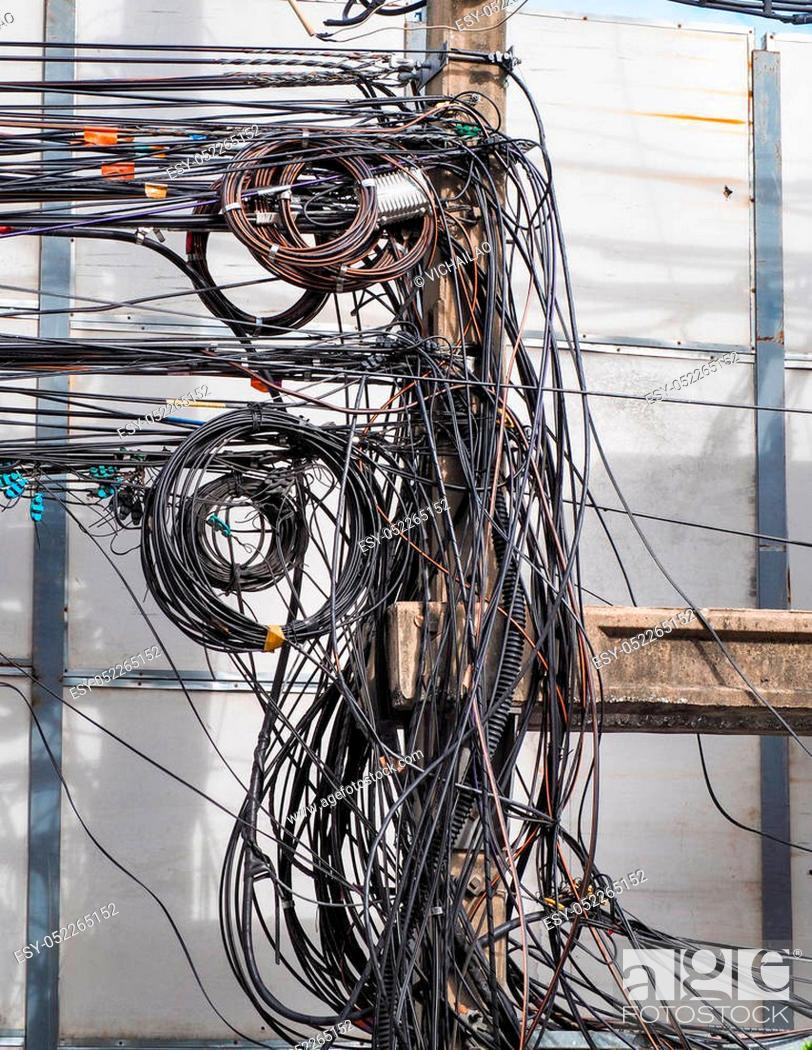wires-only: (0, 33, 614, 1047)
